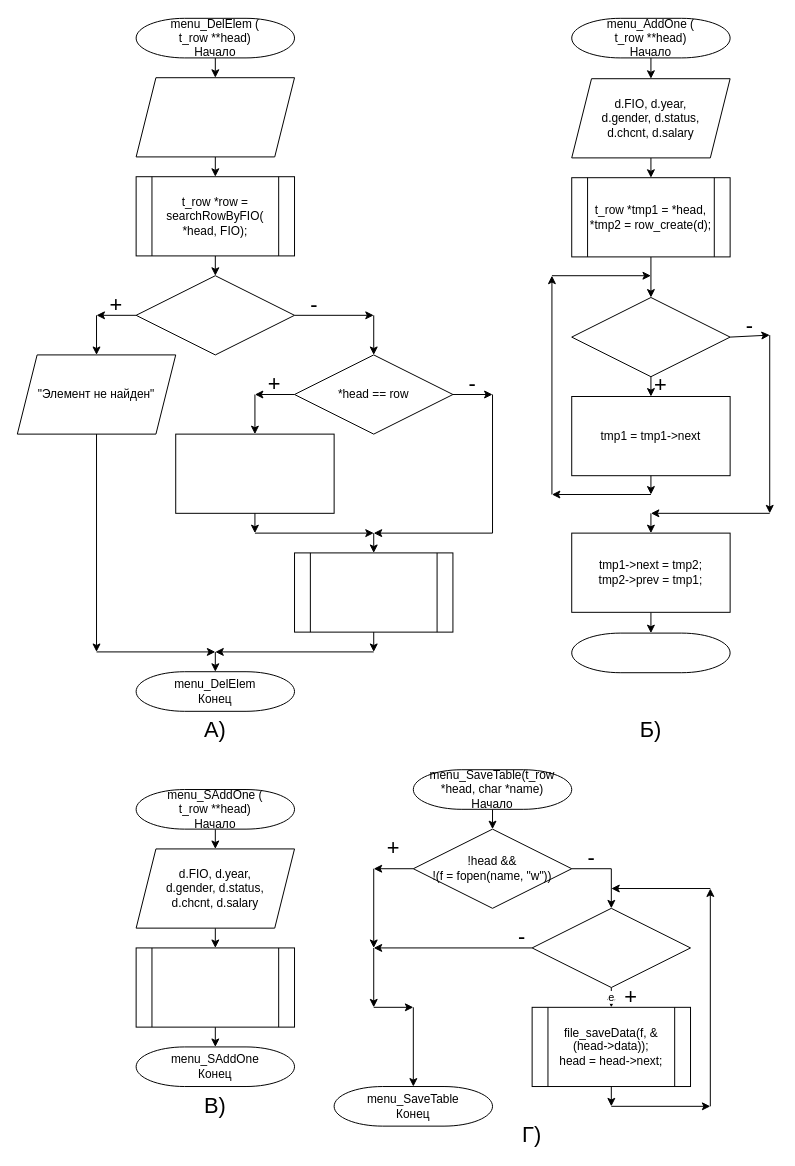
Image size: 795x1166. Some labels were removed from this diagram. The centre of each missing label's shape, as x and y in pixels:
*head = row->next;: [254,473]
FIO: [215,117]
head: [611,947]
menu_AddOne Конец: [650,652]
row: [215,315]
row_del(row);: [373,592]
SaddRowToTable( head, &d ): [215,987]
tmp1->next != NULL: [650,337]
